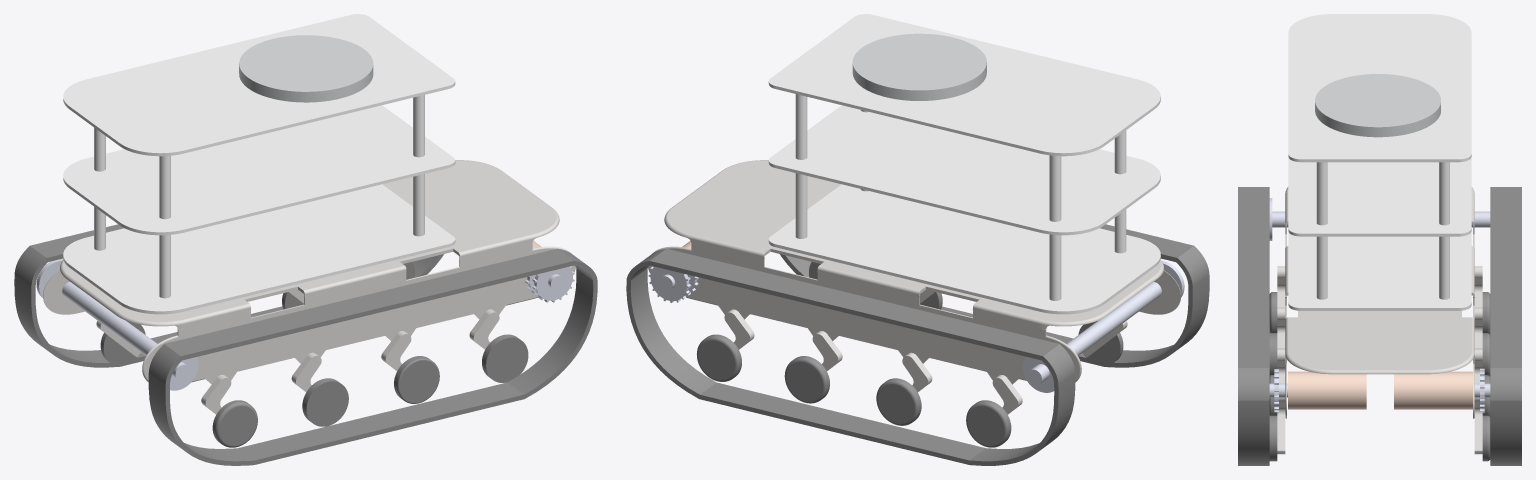
Rendered from rover.gltf.
3 views of the same model, side by side, from view 1: azimuth 30°, elevation 25°; view 2: azimuth 150°, elevation 25°; view 3: azimuth 270°, elevation 25° (orthographic). The views are drawn at different scales.
Visible parts, largest first — view 1: Part2 - Copy (×16), Shaft, Gear; view 2: Part2 - Copy (×16), Shaft, Gear; view 3: Part2 - Copy (×17), Motor (×2), Shaft.
Boxes of the visible parts, box(x1,y1,x2,y2) form: Part2 - Copy (×16): box(14, 14, 597, 465); Shaft: box(62, 282, 189, 380); Gear: box(532, 266, 574, 302); Part2 - Copy (×16): box(626, 14, 1209, 465); Shaft: box(1027, 282, 1161, 385); Gear: box(648, 266, 691, 302); Part2 - Copy (×17): box(1238, 14, 1521, 465); Motor (×2): box(1269, 371, 1490, 409); Shaft: box(1272, 211, 1490, 227).
Size of the model in its own units: 0.3013 by 0.2079 by 0.18.
